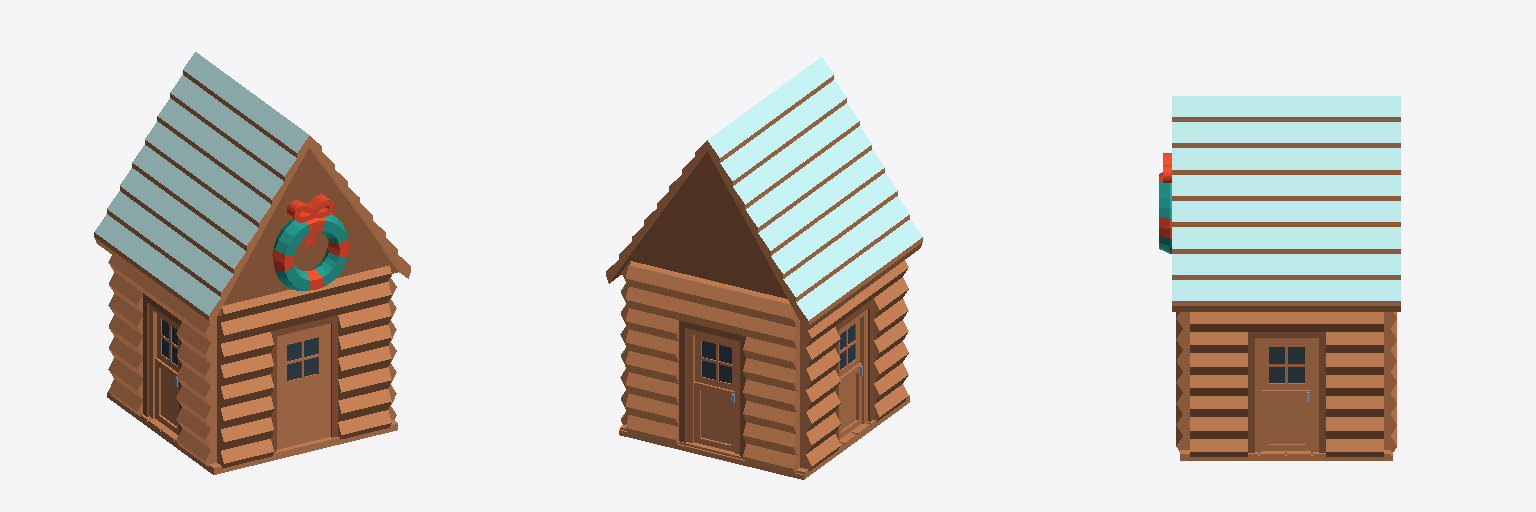
The model's file is modelchristmas1.obj.
The picture shows the model from 3 angles: view 1: azimuth 30°, elevation 25°; view 2: azimuth 150°, elevation 25°; view 3: azimuth 270°, elevation 25°; orthographic projection.
Bounding box in the file's own units: 1.21 × 1.82 × 1.25.